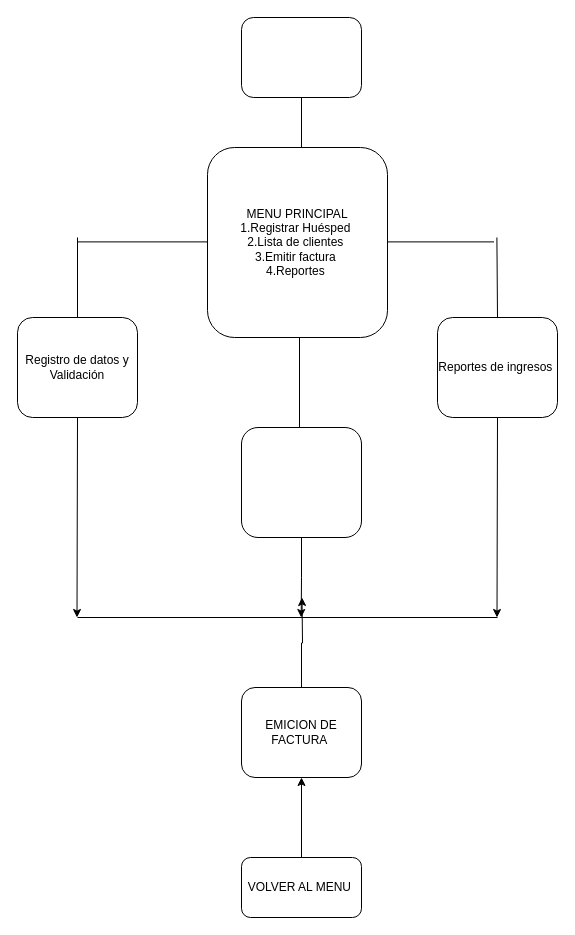
Image size: 575x935. Some labels were removed from this diagram. The centre of each missing label's shape, as x and y in pixels:
"INICIO DE SECCION" goes at point 301,57.
"Lista de facturas" goes at point 301,482.
